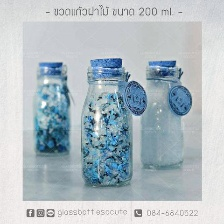bottle: (75, 59, 136, 191), (137, 63, 189, 175), (30, 58, 71, 158)
